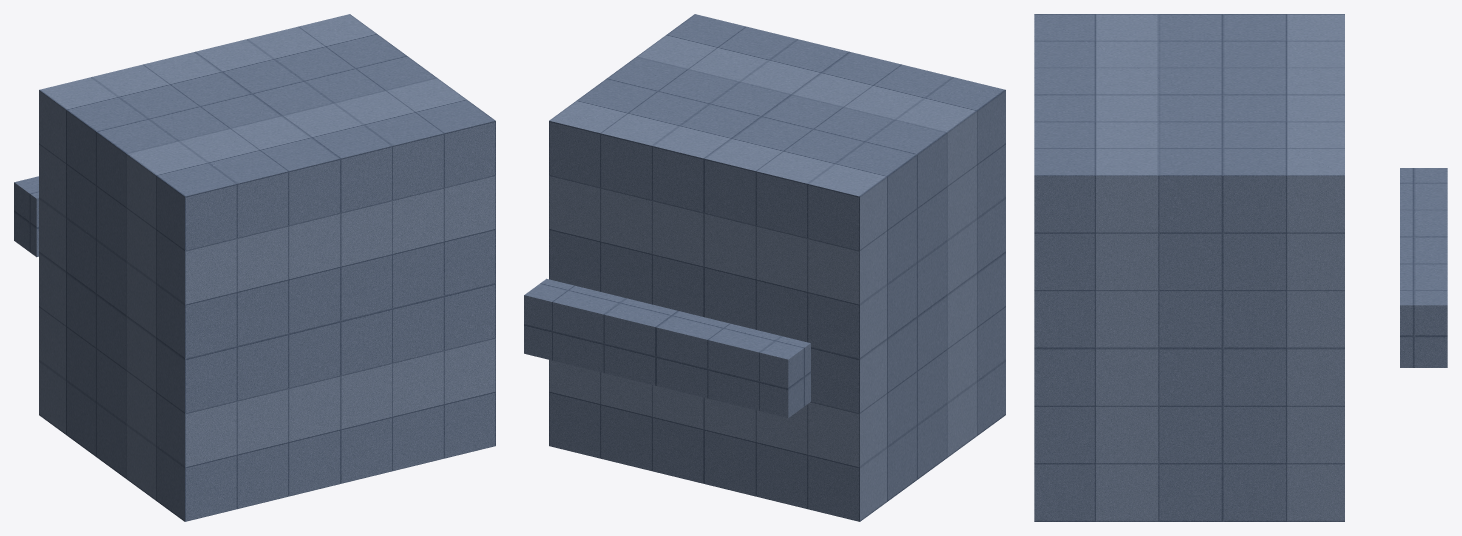
3 renders of one model, left to right at view 1: azimuth 30°, elevation 25°; view 2: azimuth 150°, elevation 25°; view 3: azimuth 270°, elevation 25°, orthographic. The views are drawn at different scales.
Parts seen in each view (by area): view 1: switchyard_edge_1u_production_run001; view 2: switchyard_edge_1u_production_run001; view 3: switchyard_edge_1u_production_run001.
Boxes of the visible parts, box(x1,y1,x2,y2) form: switchyard_edge_1u_production_run001: box(14, 14, 495, 521); switchyard_edge_1u_production_run001: box(524, 14, 1005, 521); switchyard_edge_1u_production_run001: box(1034, 14, 1447, 521).
Bounding box in the file's own units: 2 × 2 × 2.16.
Materials: 1 (1 with a texture image).
